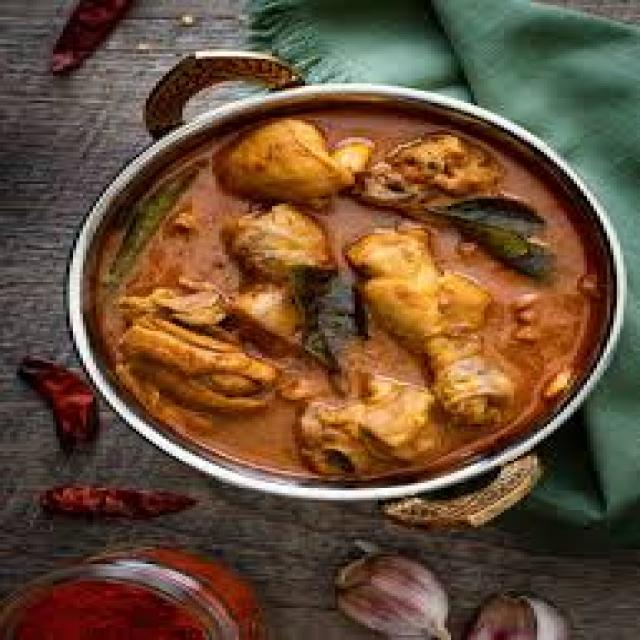Chicken Curry: (109, 110, 597, 483)
